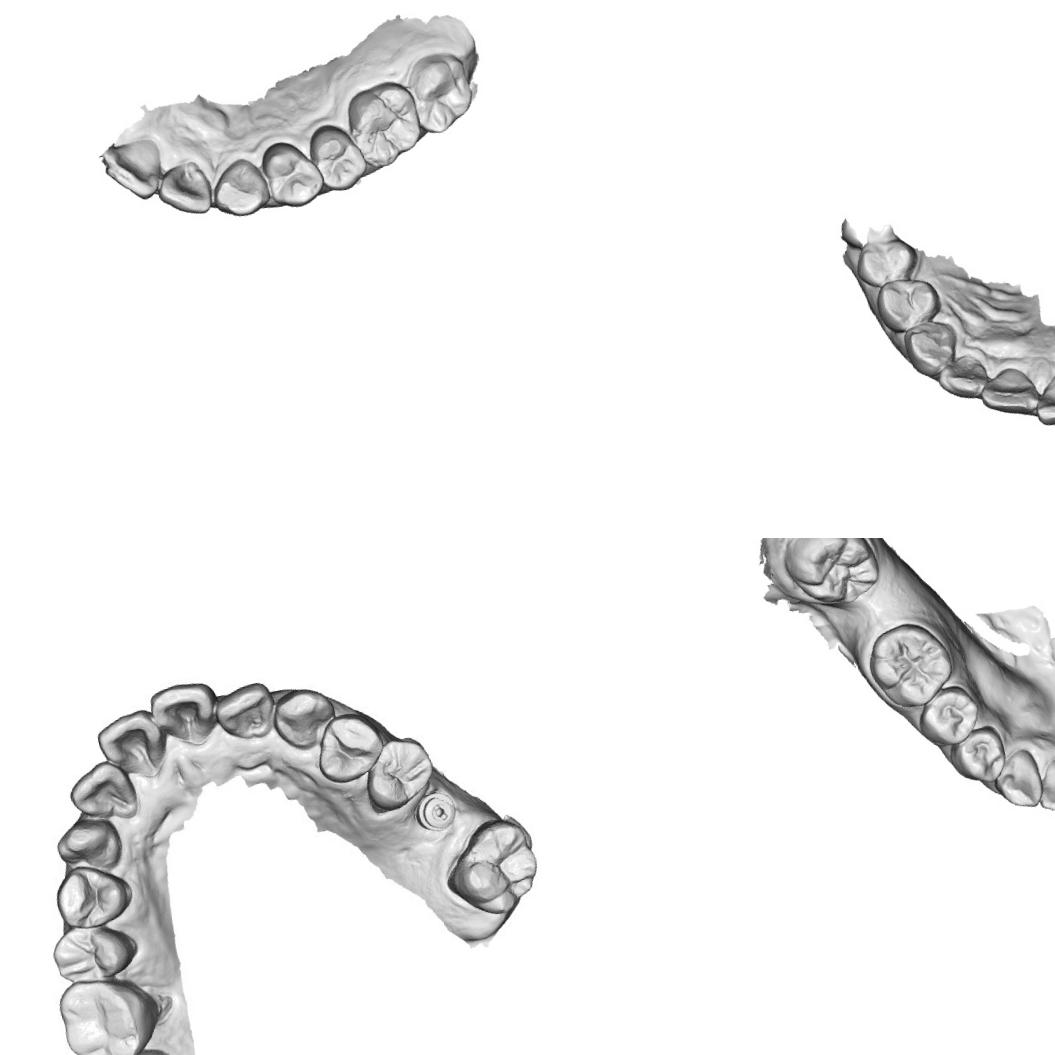canine: (264, 682, 342, 760), (52, 811, 132, 880), (208, 154, 272, 222), (900, 314, 963, 382), (988, 744, 1048, 814)
implant_minus: (414, 783, 468, 842)
incisor: (90, 706, 172, 786), (60, 755, 144, 831), (96, 129, 172, 208), (153, 678, 224, 751), (973, 361, 1040, 424), (153, 159, 217, 223), (214, 682, 278, 744), (932, 350, 992, 405), (1028, 364, 1055, 431), (1030, 753, 1055, 818)
molar: (438, 809, 552, 926), (52, 966, 174, 1055), (860, 614, 959, 716), (774, 538, 886, 618), (340, 75, 426, 172), (402, 47, 484, 139)
premolar: (356, 728, 442, 822), (48, 914, 146, 994), (48, 858, 137, 934), (312, 705, 392, 786), (910, 680, 986, 752), (258, 136, 326, 213), (302, 117, 368, 196), (868, 270, 945, 337), (943, 720, 1011, 790), (849, 233, 924, 293)
